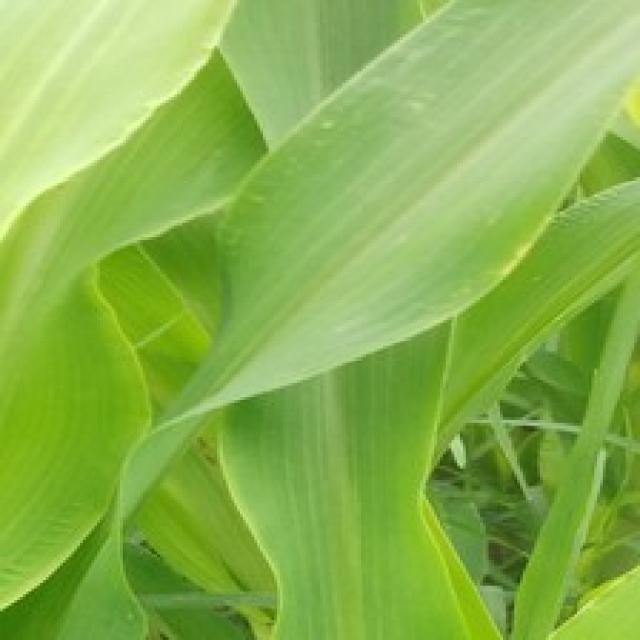Corn: (0, 0, 637, 637), (0, 0, 269, 637)
